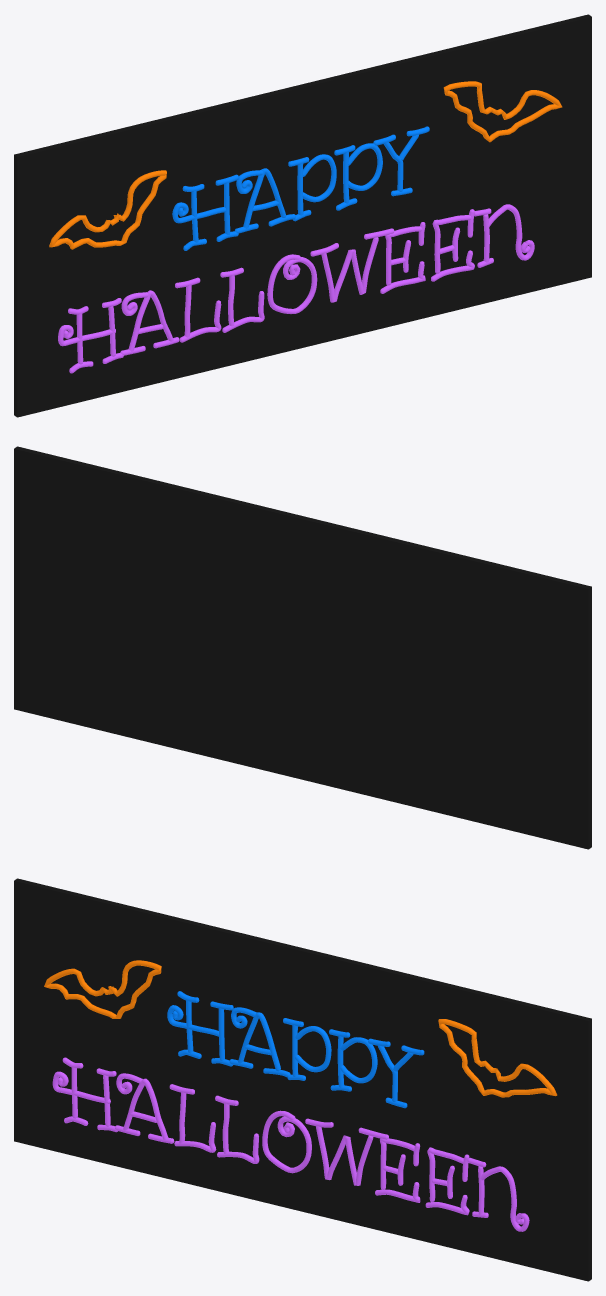
Rendered from ハッピーハロウィン.glb.
The picture shows the model from 3 angles, top to bottom: view 1: azimuth 30°, elevation 25°; view 2: azimuth 150°, elevation 25°; view 3: azimuth 330°, elevation 25°; orthographic projection.
Bounding box in the file's own units: 696 × 301 × 12.
